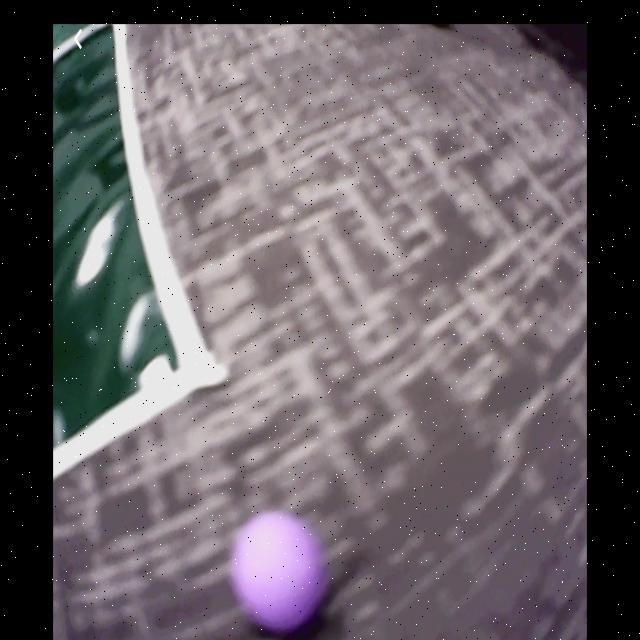ball: (234, 513, 327, 635)
